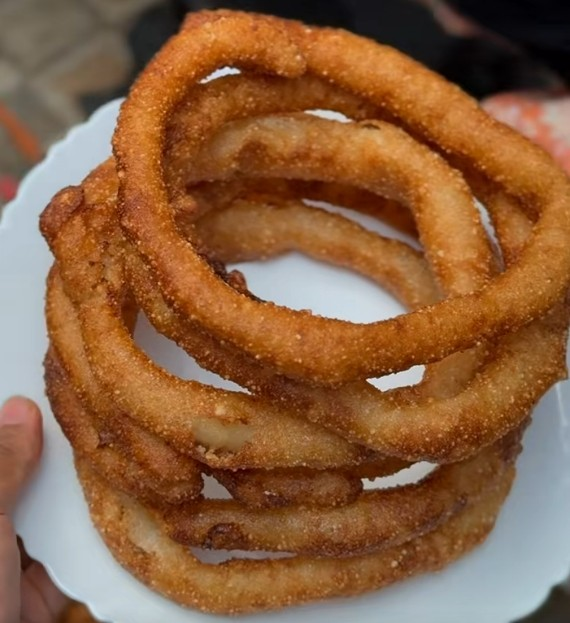sel_roti: (119, 7, 570, 366), (40, 159, 386, 471), (150, 487, 500, 563)
